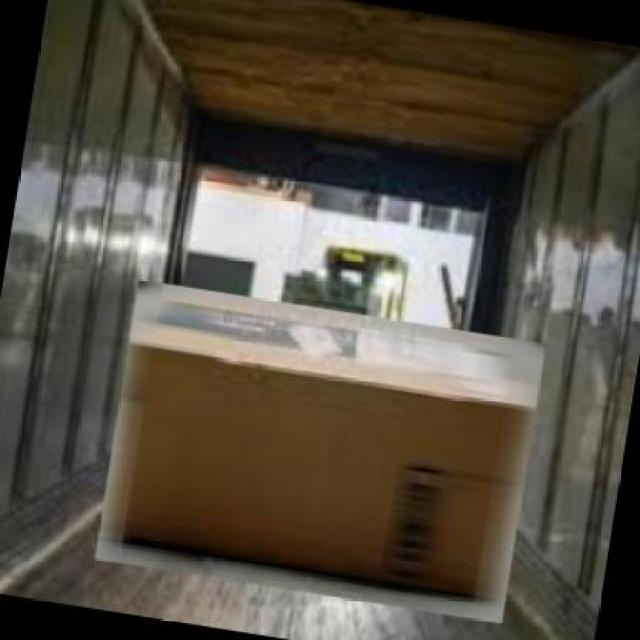box: (85, 274, 552, 629)
